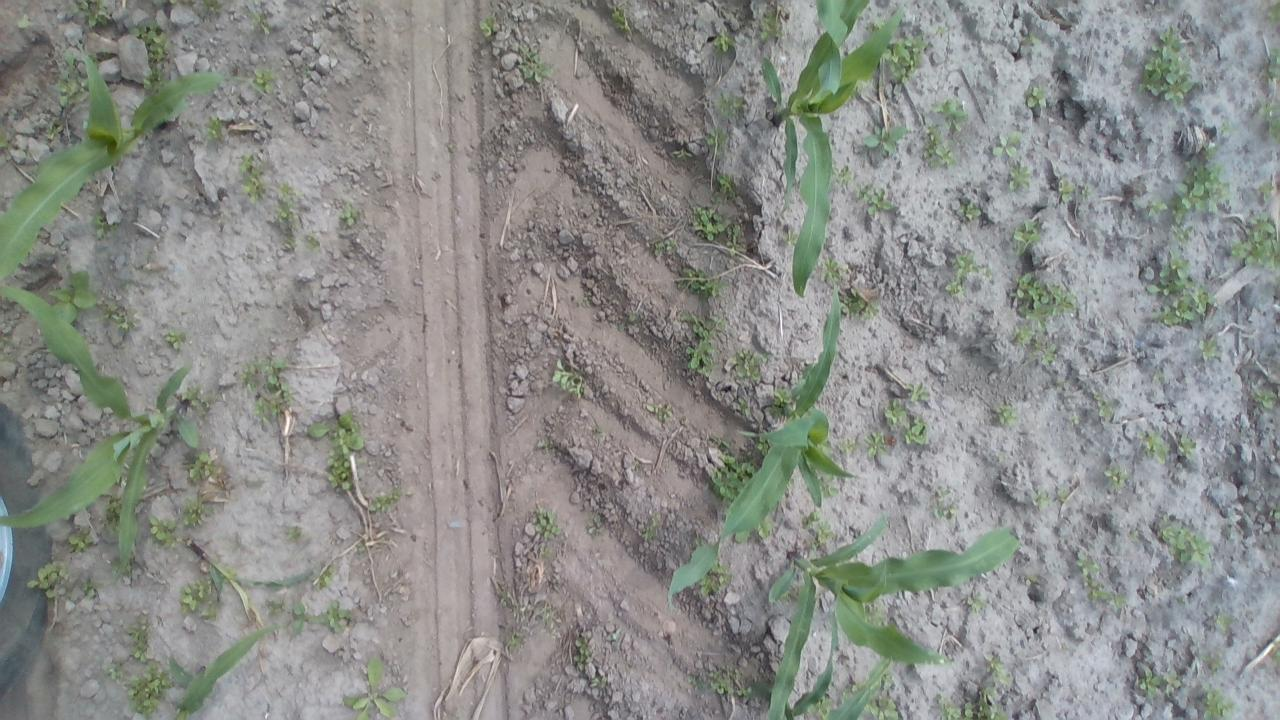Maize: (668, 286, 861, 608), (2, 287, 196, 571), (0, 53, 230, 286), (767, 516, 1021, 719), (760, 0, 906, 300), (758, 614, 894, 718), (182, 533, 315, 626), (162, 626, 274, 716)
Weeds: (1146, 253, 1213, 326), (1172, 156, 1233, 217), (345, 658, 405, 720), (242, 354, 294, 424), (1010, 270, 1080, 318), (1140, 52, 1196, 104), (306, 410, 366, 454), (1229, 211, 1277, 266), (709, 444, 756, 500), (51, 270, 98, 322), (1158, 521, 1212, 566), (690, 206, 742, 252), (884, 37, 929, 86), (1009, 322, 1058, 366), (128, 671, 172, 720), (946, 250, 991, 297), (128, 20, 170, 66), (688, 666, 746, 698), (24, 560, 66, 599), (962, 685, 1008, 719), (270, 178, 300, 229), (678, 266, 725, 298), (181, 578, 216, 620), (550, 360, 586, 399), (922, 126, 956, 166), (56, 58, 82, 109), (67, 0, 111, 29), (862, 124, 906, 153), (326, 452, 356, 494), (240, 154, 266, 202), (86, 204, 118, 242), (734, 349, 769, 383), (99, 300, 136, 332), (1012, 218, 1042, 256), (1148, 26, 1184, 57), (1200, 688, 1236, 718), (76, 571, 105, 608), (1138, 428, 1170, 461), (978, 652, 1010, 684), (684, 341, 714, 375), (501, 618, 526, 658), (520, 51, 553, 81), (936, 98, 970, 127), (324, 602, 354, 634), (128, 622, 152, 662), (313, 558, 339, 594), (686, 314, 722, 340), (292, 601, 318, 637), (847, 289, 879, 318), (1092, 386, 1116, 424), (1004, 160, 1034, 190), (702, 565, 732, 595), (990, 130, 1022, 158), (638, 508, 663, 543), (759, 8, 784, 43), (201, 114, 225, 150), (336, 199, 360, 234), (184, 452, 214, 480), (869, 691, 900, 718), (572, 630, 594, 668), (714, 88, 746, 114), (1142, 193, 1167, 226), (1250, 384, 1278, 413), (39, 118, 70, 144), (102, 496, 124, 532), (1073, 550, 1103, 576), (150, 514, 175, 545), (1264, 42, 1280, 89), (534, 509, 560, 537), (934, 490, 959, 519), (904, 416, 928, 446), (866, 187, 892, 214), (250, 68, 278, 93), (962, 591, 991, 615), (771, 388, 793, 419), (1197, 334, 1223, 360), (182, 499, 207, 526), (582, 510, 606, 538), (820, 257, 842, 287), (369, 490, 399, 512), (1138, 666, 1160, 696), (905, 379, 931, 404), (957, 198, 982, 224), (706, 126, 730, 153), (1261, 100, 1276, 143), (885, 397, 907, 426), (1209, 608, 1234, 633), (1254, 180, 1278, 206), (1084, 580, 1114, 600), (68, 529, 93, 553), (993, 402, 1018, 426), (1104, 464, 1130, 487), (1025, 84, 1047, 111), (1022, 29, 1044, 55), (864, 432, 886, 458), (478, 12, 498, 40), (494, 584, 518, 607), (809, 521, 832, 545), (282, 520, 304, 545), (713, 30, 735, 54), (164, 328, 186, 352), (650, 235, 674, 257), (731, 397, 752, 422), (198, 1, 224, 21), (1172, 224, 1194, 247), (610, 8, 630, 33), (618, 312, 638, 336), (250, 10, 270, 34), (1177, 434, 1196, 459), (1055, 178, 1076, 200), (839, 435, 861, 456), (646, 401, 671, 419), (935, 700, 960, 718), (715, 172, 732, 198), (754, 522, 776, 542), (264, 594, 284, 616), (106, 660, 126, 681), (808, 698, 831, 716), (1198, 136, 1220, 154), (835, 165, 853, 187), (0, 122, 13, 152), (1054, 486, 1072, 506), (1164, 672, 1182, 692), (15, 14, 33, 33), (1024, 568, 1041, 588), (180, 387, 200, 404), (534, 543, 552, 561), (1205, 652, 1224, 669), (578, 292, 594, 312), (1032, 490, 1052, 506), (534, 439, 558, 452), (757, 436, 771, 458), (1079, 184, 1093, 206), (672, 148, 694, 162), (304, 234, 320, 253), (933, 22, 951, 38), (785, 224, 797, 248), (1218, 121, 1233, 140), (1150, 364, 1165, 382), (590, 424, 606, 440), (1111, 594, 1127, 610), (1050, 377, 1068, 391), (1270, 1, 1280, 26), (1066, 411, 1081, 425), (870, 16, 884, 30), (1267, 505, 1280, 520), (631, 459, 643, 473)
